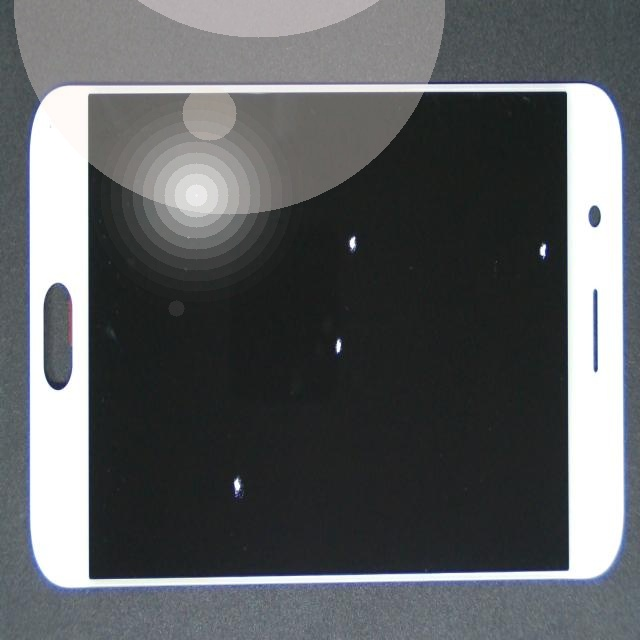stain: (166, 117, 494, 504), (131, 189, 336, 640), (286, 67, 640, 328), (192, 134, 541, 352)
